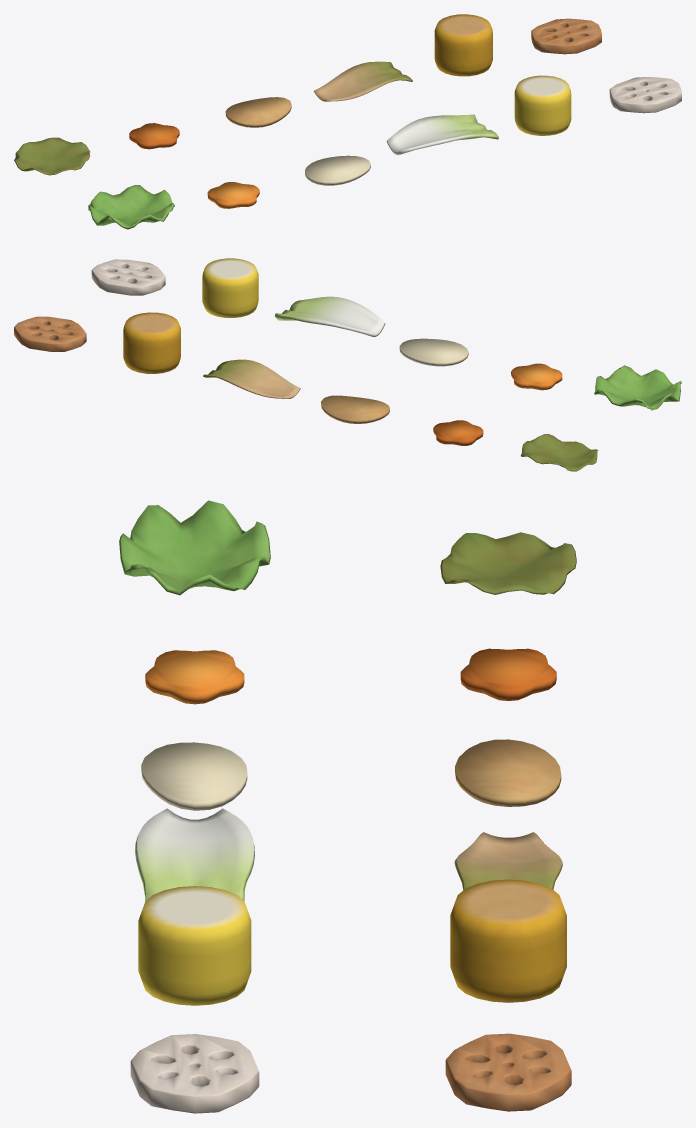
Rendered from Phase2_Vegetables_P1.glb.
3 renders of one model, top to bottom at view 1: azimuth 30°, elevation 25°; view 2: azimuth 150°, elevation 25°; view 3: azimuth 270°, elevation 25°, orthographic. The views are drawn at different scales.
Parts seen in each view (by area): view 1: CornCob_Cooked, CornCob_Raw, Lettuce_Raw, NapaCabbage_Raw, LotusRoot_Raw, Lettuce_Cooked, NapaCabbage_Cooked, LotusRoot_Cooked, Potato_Cooked, Potato_Raw, Carrot_Raw, Carrot_Cooked; view 2: CornCob_Cooked, CornCob_Raw, Lettuce_Raw, NapaCabbage_Raw, LotusRoot_Raw, NapaCabbage_Cooked, LotusRoot_Cooked, Lettuce_Cooked, Potato_Raw, Potato_Cooked, Carrot_Raw, Carrot_Cooked; view 3: CornCob_Cooked, CornCob_Raw, Lettuce_Raw, NapaCabbage_Raw, LotusRoot_Raw, LotusRoot_Cooked, Lettuce_Cooked, Potato_Cooked, Potato_Raw, NapaCabbage_Cooked, Carrot_Raw, Carrot_Cooked.
Boxes of the visible parts, x1=… form: CornCob_Cooked: x1=434, y1=14, x2=492, y2=76; CornCob_Raw: x1=514, y1=75, x2=571, y2=135; Lettuce_Raw: x1=88, y1=185, x2=174, y2=229; NapaCabbage_Raw: x1=386, y1=114, x2=498, y2=155; LotusRoot_Raw: x1=609, y1=77, x2=681, y2=113; Lettuce_Cooked: x1=14, y1=137, x2=90, y2=175; NapaCabbage_Cooked: x1=313, y1=61, x2=412, y2=101; LotusRoot_Cooked: x1=531, y1=18, x2=601, y2=54; Potato_Cooked: x1=225, y1=97, x2=291, y2=127; Potato_Raw: x1=305, y1=155, x2=370, y2=185; Carrot_Raw: x1=207, y1=182, x2=259, y2=208; Carrot_Cooked: x1=129, y1=123, x2=179, y2=149; CornCob_Cooked: x1=123, y1=312, x2=180, y2=373; CornCob_Raw: x1=202, y1=258, x2=258, y2=317; Lettuce_Raw: x1=594, y1=365, x2=681, y2=410; NapaCabbage_Raw: x1=275, y1=296, x2=385, y2=337; LotusRoot_Raw: x1=91, y1=259, x2=165, y2=295; NapaCabbage_Cooked: x1=203, y1=359, x2=300, y2=398; LotusRoot_Cooked: x1=14, y1=316, x2=86, y2=351; Lettuce_Cooked: x1=521, y1=434, x2=598, y2=471; Potato_Raw: x1=399, y1=338, x2=468, y2=366; Potato_Cooked: x1=321, y1=395, x2=389, y2=423; Carrot_Raw: x1=511, y1=363, x2=562, y2=390; Carrot_Cooked: x1=433, y1=420, x2=483, y2=445; CornCob_Cooked: x1=450, y1=879, x2=566, y2=1002; CornCob_Raw: x1=138, y1=886, x2=251, y2=1005; Lettuce_Raw: x1=119, y1=500, x2=270, y2=595; NapaCabbage_Raw: x1=135, y1=808, x2=254, y2=901; LotusRoot_Raw: x1=130, y1=1034, x2=259, y2=1113; LotusRoot_Cooked: x1=445, y1=1033, x2=571, y2=1111; Lettuce_Cooked: x1=440, y1=532, x2=576, y2=594; Potato_Cooked: x1=455, y1=739, x2=561, y2=806; Potato_Raw: x1=141, y1=742, x2=247, y2=810; NapaCabbage_Cooked: x1=454, y1=832, x2=562, y2=889; Carrot_Raw: x1=145, y1=650, x2=244, y2=704; Carrot_Cooked: x1=460, y1=648, x2=556, y2=700.
Size of the model in its own units: 0.5126 by 0.0345 by 0.1751.
12 materials, 12 textured.
